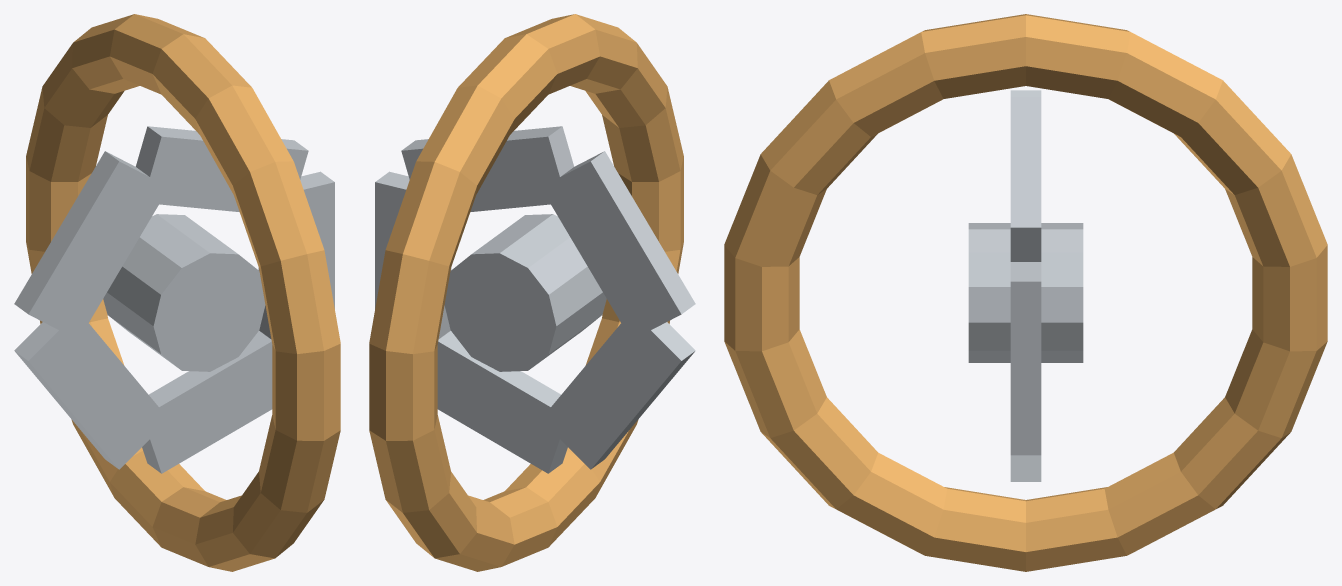
The model's file is fan_shroud.glb.
3 renders of one model, left to right at view 1: azimuth 30°, elevation 25°; view 2: azimuth 150°, elevation 25°; view 3: azimuth 270°, elevation 25°, orthographic. The views are drawn at different scales.
Visible parts, largest first — view 1: HousingAccent, MetalBody; view 2: HousingAccent, MetalBody; view 3: HousingAccent, MetalBody.
Part boxes in pixels (x1,y1,x2,y2): HousingAccent: [26, 14, 340, 571]; MetalBody: [14, 126, 334, 473]; HousingAccent: [369, 14, 683, 571]; MetalBody: [375, 126, 695, 473]; HousingAccent: [724, 14, 1327, 571]; MetalBody: [968, 90, 1083, 481].
Bounding box in the file's own units: 0.2973 × 0.48 × 0.4727.
